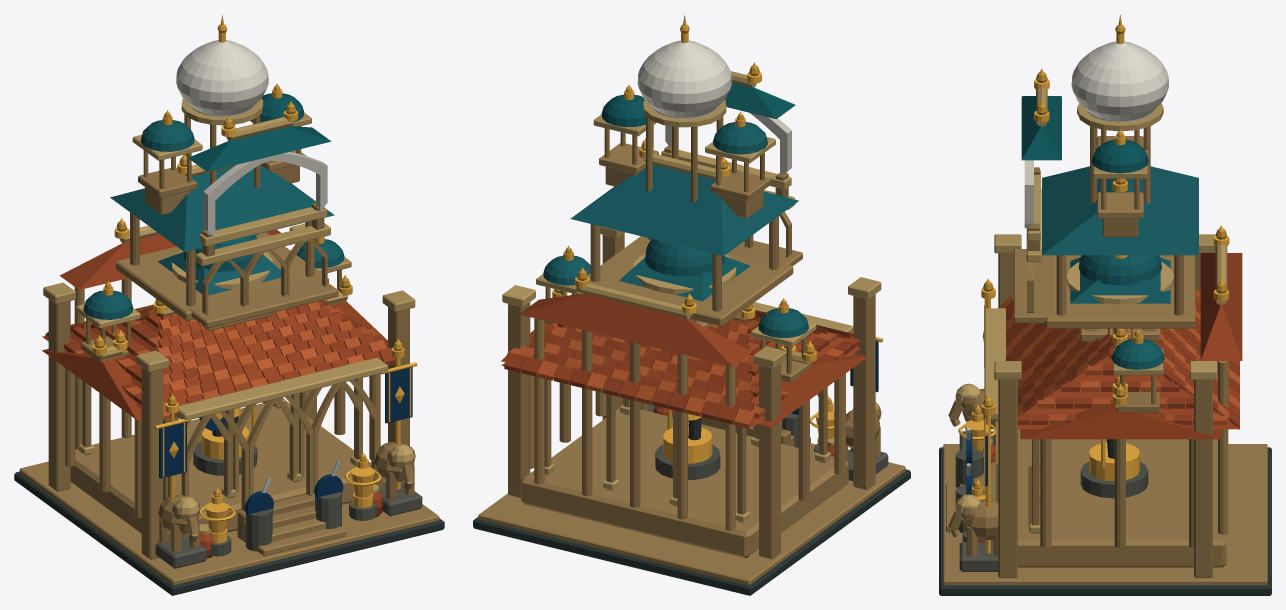
3 renders of one model, left to right at view 1: azimuth 30°, elevation 25°; view 2: azimuth 150°, elevation 25°; view 3: azimuth 270°, elevation 25°, orthographic. The views are drawn at different scales.
Visible parts, largest first — view 1: hero_hall_level15_structure, hero_hall_level15_metal; view 2: hero_hall_level15_structure, hero_hall_level15_metal; view 3: hero_hall_level15_structure, hero_hall_level15_metal.
Boxes of the visible parts, left/top/right/bottom form: hero_hall_level15_structure: left=14, top=24, right=444, bottom=595; hero_hall_level15_metal: left=92, top=14, right=417, bottom=544; hero_hall_level15_structure: left=473, top=24, right=910, bottom=595; hero_hall_level15_metal: left=552, top=14, right=883, bottom=463; hero_hall_level15_structure: left=939, top=25, right=1271, bottom=595; hero_hall_level15_metal: left=958, top=15, right=1229, bottom=553.
Bounding box in the file's own units: 5.6 × 9.51 × 5.6.
